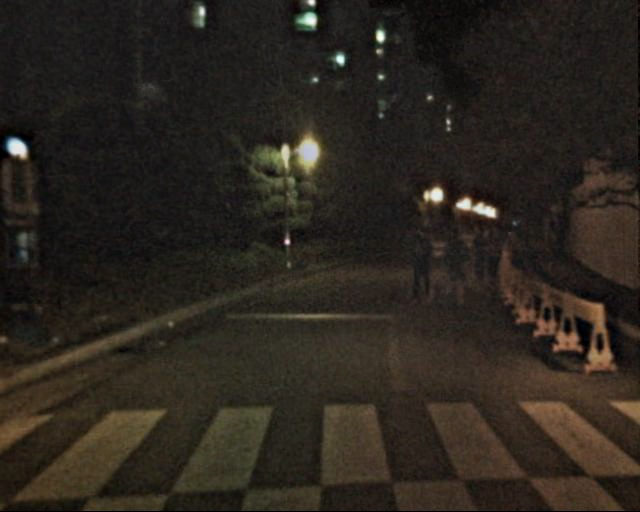person: (404, 226, 439, 311), (437, 229, 469, 308), (468, 229, 491, 284), (482, 231, 505, 286)
